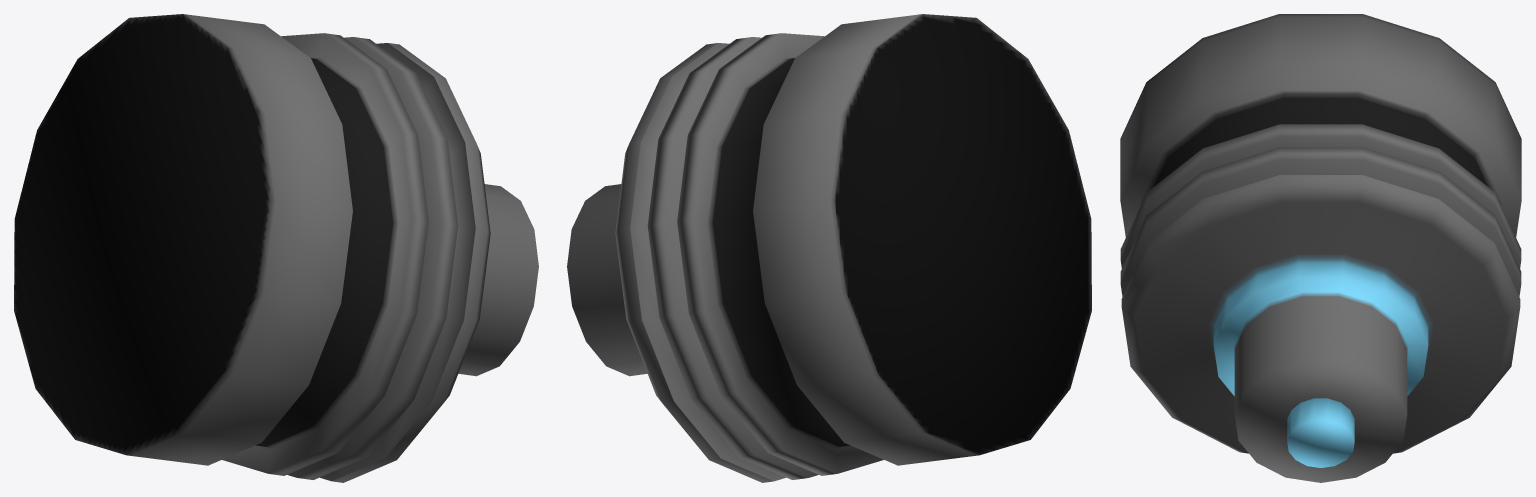
File: SM_Car_02_Wheel.fbx
3 renders of one model, left to right at view 1: azimuth 30°, elevation 25°; view 2: azimuth 150°, elevation 25°; view 3: azimuth 270°, elevation 25°, orthographic. The views are drawn at different scales.
Visible parts, largest first — view 1: SM_Car_02_Wheel; view 2: SM_Car_02_Wheel; view 3: SM_Car_02_Wheel.
Part boxes in pixels (x1,y1,x2,y2): SM_Car_02_Wheel: (14,14,538,482); SM_Car_02_Wheel: (567,14,1091,482); SM_Car_02_Wheel: (1120,14,1521,482).
Size of the model in its own units: 60.63 by 52.29 by 59.35.
1 material, 1 textured.
